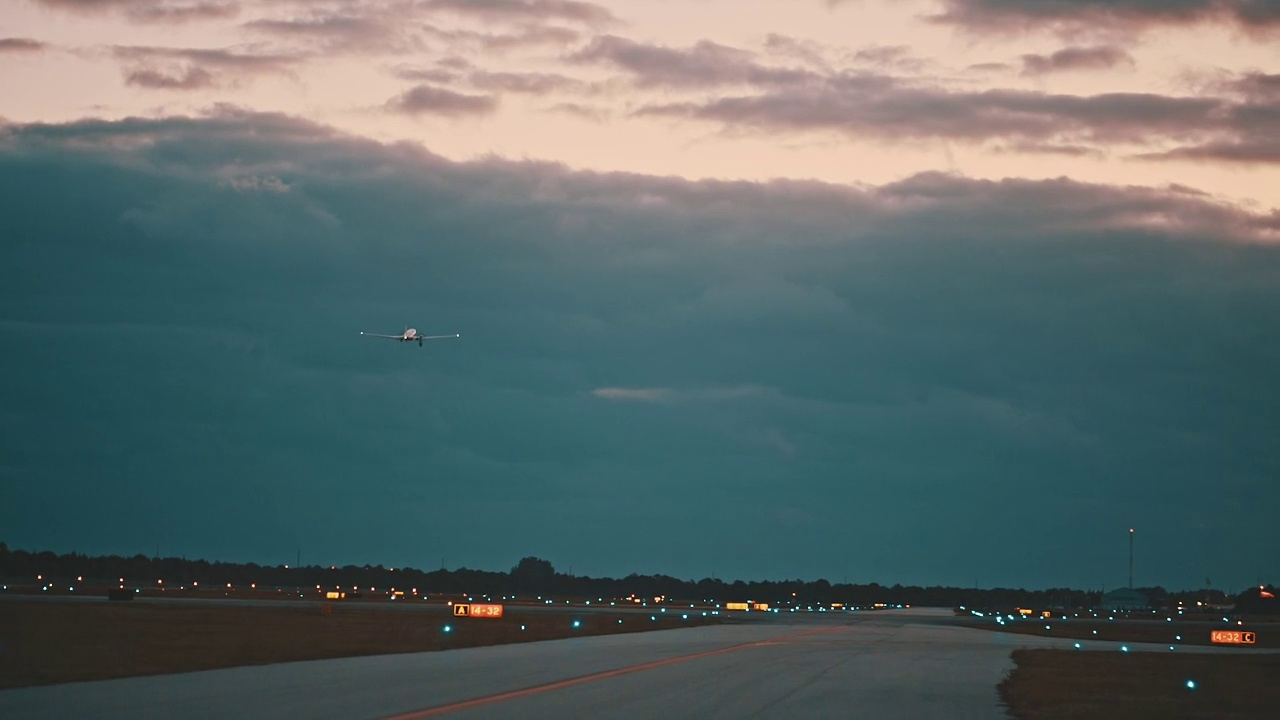plane: (358, 327, 459, 347)
